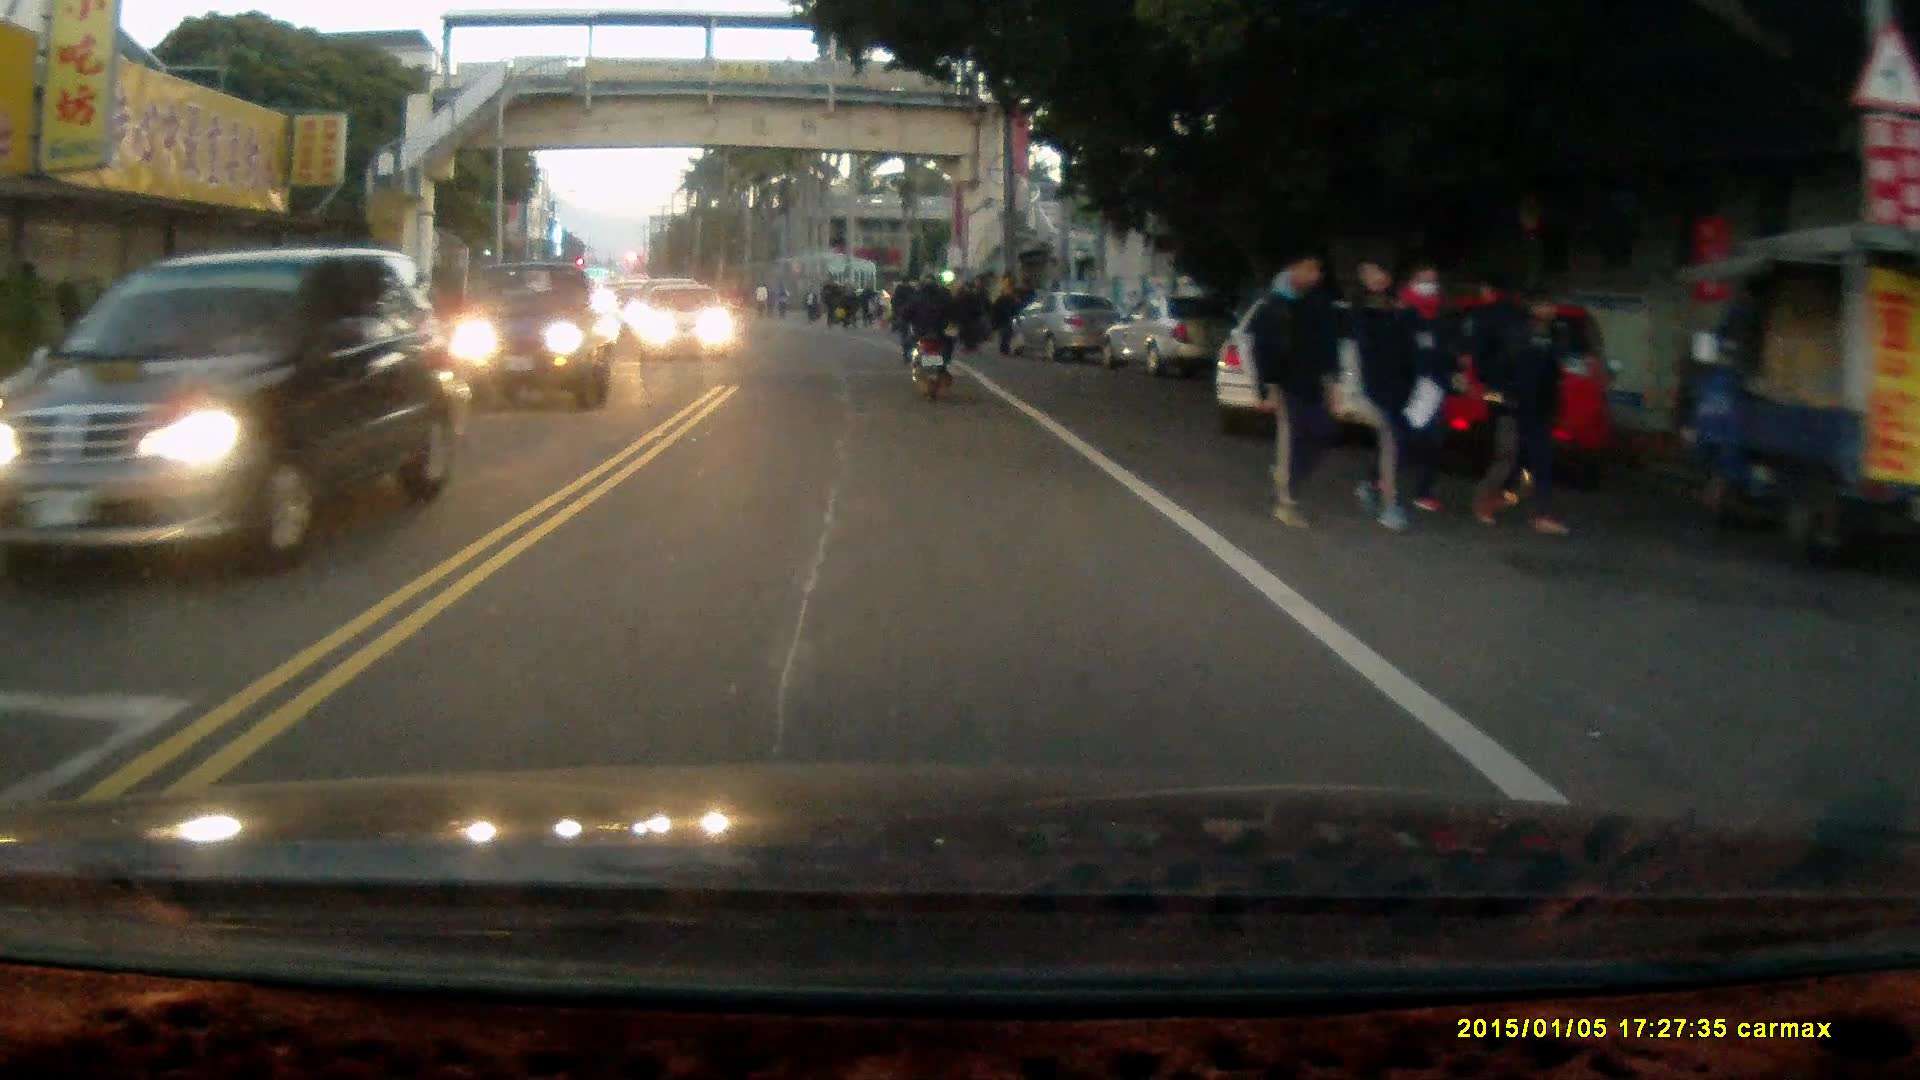pedestrian: (1245, 238, 1344, 534), (1343, 255, 1424, 538), (1491, 284, 1574, 540), (1463, 273, 1548, 516), (1384, 258, 1466, 512), (963, 269, 992, 351), (954, 277, 979, 354), (990, 281, 1018, 350)
rider: (890, 268, 957, 402)
vehicle: (22, 247, 442, 587), (1370, 286, 1623, 487), (1211, 285, 1430, 435), (457, 264, 616, 411), (1107, 289, 1228, 375), (1008, 291, 1131, 360), (639, 284, 737, 362)
